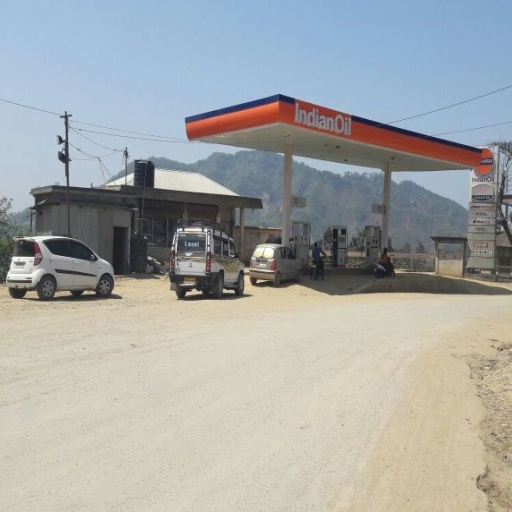roof: (185, 94, 485, 180)
